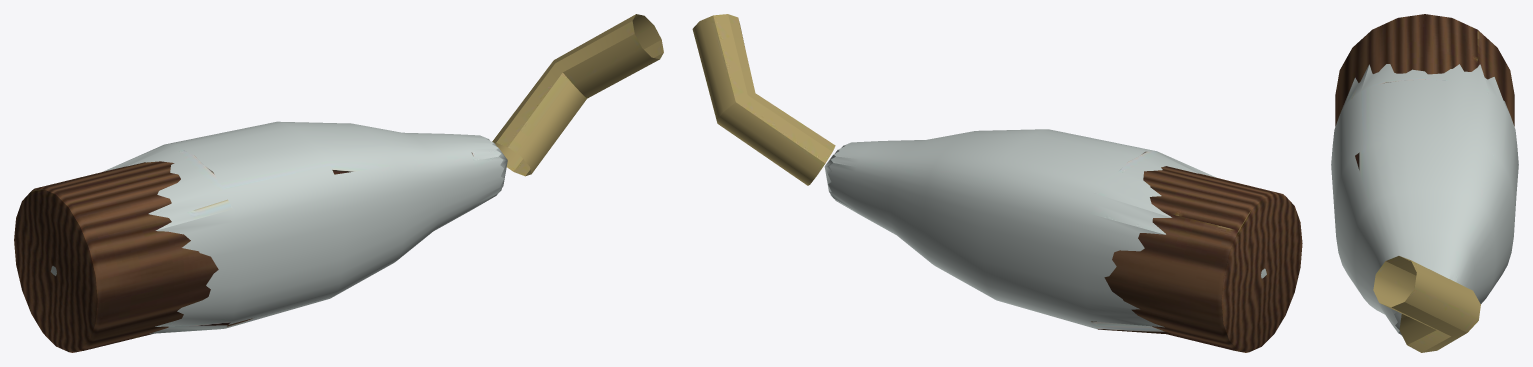
The model's file is lampoil.glb.
The picture shows the model from 3 angles, left to right: view 1: azimuth 30°, elevation 25°; view 2: azimuth 150°, elevation 25°; view 3: azimuth 270°, elevation 25°; orthographic projection. The views are drawn at different scales.
Parts seen in each view (by area): view 1: bottle, oil, rag; view 2: bottle, oil, rag; view 3: bottle, oil, rag.
Part boxes in pixels (<box>): bottle: <box>50,121,507,333</box>; oil: <box>14,161,218,352</box>; rag: <box>492,14,663,176</box>; bottle: <box>824,129,1266,334</box>; oil: <box>1104,166,1302,352</box>; rag: <box>692,14,835,185</box>; bottle: <box>1331,64,1518,336</box>; oil: <box>1335,14,1514,126</box>; rag: <box>1373,256,1480,352</box>.
Size of the model in its own units: 0.2439 by 0.0784 by 0.0628.
Materials: 1 (1 with a texture image).
